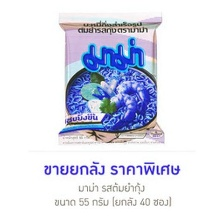snack: (47, 3, 171, 151)
